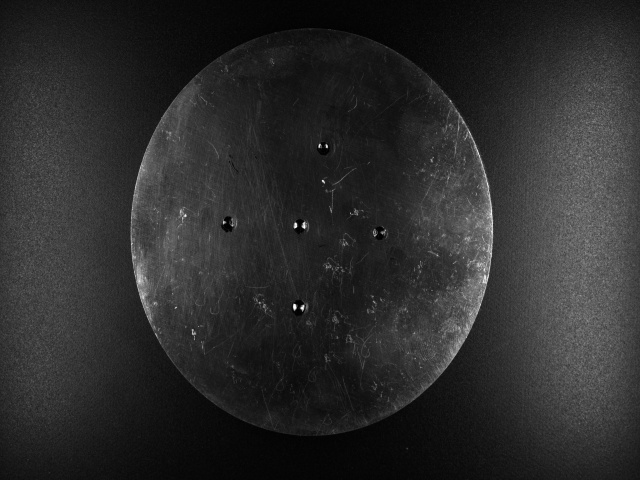zhen_kong: (219, 214, 244, 236), (368, 222, 389, 246), (289, 296, 311, 318), (293, 214, 313, 238), (312, 137, 334, 156)
